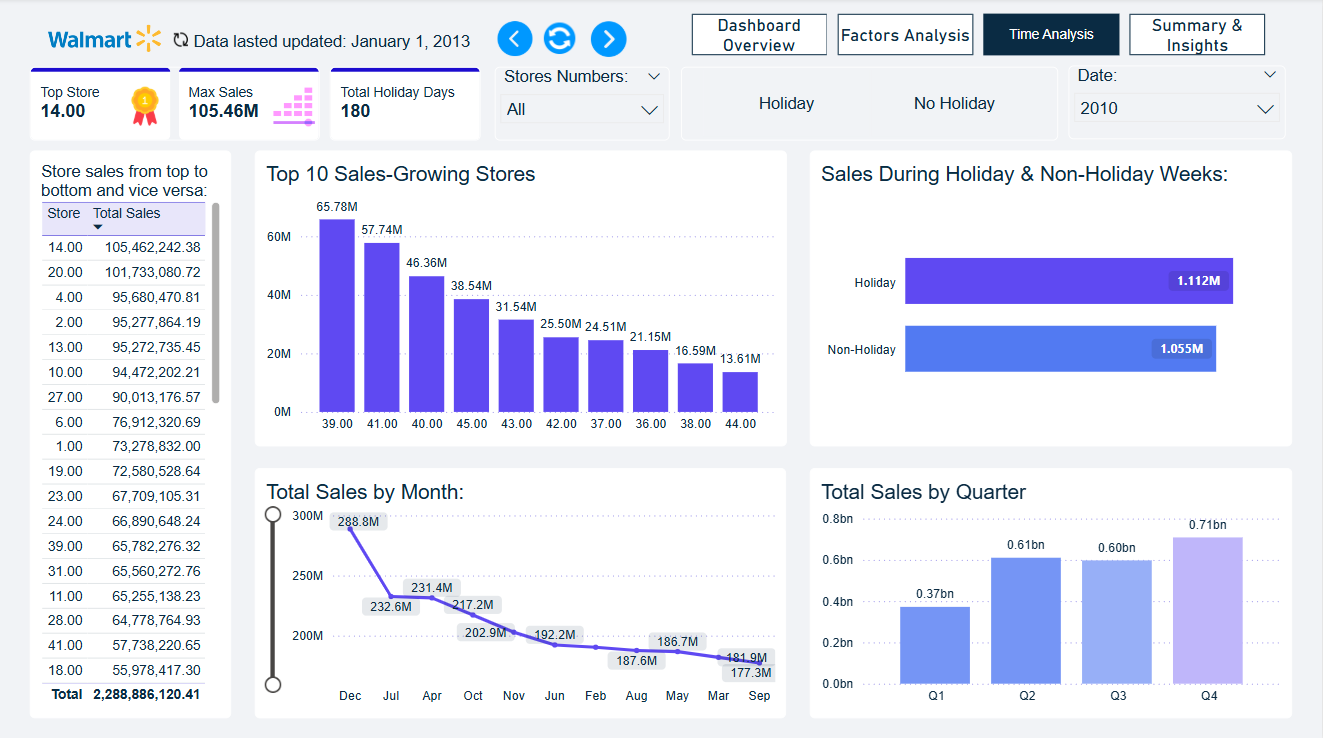

Layout of this report page (visuals, bound fields, positions):
{"tool":"powerbi","page":{"name":"Time Analysis","canvas":[1280,720],"ordinal":2},"visuals":[{"type":"tableEx","title":"Store sales from top to bottom and vice versa:","fields":{"Values":["Walmart_Sales.Store","Walmart_Sales.Total Sales"]},"box":[32.6,147.2,194.2,547.7],"z":0},{"type":"lineChart","title":"Total Sales by Month:","fields":{"Category":["Walmart_Sales.Month"],"Y":["Walmart_Sales.Total Sales"]},"box":[249.7,453.6,512.7,241.3],"z":1000},{"type":"clusteredColumnChart","title":"Total Sales by Quarter","fields":{"Category":["Walmart_Sales.Quarter"],"Y":["Walmart_Sales.Total Sales"]},"box":[785.4,453.6,465.7,241.3],"z":2000},{"type":"clusteredColumnChart","title":"Top 10 Sales-Growing Stores","fields":{"Category":["Walmart_Sales.Store"],"Y":["Walmart_Sales.Total Sales"]},"box":[249.7,146.8,513.2,285.4],"z":3000},{"type":"slicer","fields":{"Values":["Walmart_Sales.YearOnly","Walmart_Sales.Date.Variation.Date Hierarchy.Quarter","Walmart_Sales.Date.Variation.Date Hierarchy.Month"]},"box":[1034.8,65.6,209.5,71.3],"z":4000},{"type":"slicer","fields":{"Values":["Walmart_Sales.Holiday_Description"]},"box":[661.4,65.9,363.6,71.4],"z":5000},{"type":"slicer","fields":{"Values":["Walmart_Sales.Branch_Name"]},"box":[481.6,65.9,168.8,71.4],"z":6000},{"type":"cardVisual","fields":{"Data":["Walmart_Sales.Top Store","Walmart_Sales.Max Sales"]},"box":[32.9,65.9,279.9,71.4],"z":7000},{"type":"cardVisual","title":"Total Holiday Days:","fields":{"Data":["Walmart_Sales.Total Holiday Days"]},"box":[322.5,65.9,145.5,71.4],"z":8000},{"type":"textbox","box":[190.7,32.9,281.3,20.6],"z":9000},{"type":"image","box":[157.8,23.3,41.2,34.3],"z":10000},{"type":"image","box":[515.3,13.7,57.6,50.8],"z":11000},{"type":"image","box":[472,11,59,56.3],"z":12000},{"type":"image","box":[557.1,11.7,68.6,54.9],"z":13000},{"type":"image","box":[33.8,4.8,141.2,67.6],"z":14000},{"type":"pageNavigator","box":[661.1,4.8,574.3,60.3],"z":15000},{"type":"image","box":[114.6,73.6,57.9,61.5],"z":16000},{"type":"image","box":[255.8,74.8,63.9,60.3],"z":17000},{"type":"clusteredBarChart","title":"Sales During Holiday & Non-Holiday Weeks:","fields":{"Category":["HolidayType.Type"],"Y":["HolidayType.Avg_Sales_By_Type"]},"box":[785.4,147.2,465.7,285.9],"z":18000}]}

Visuals, with their boxes in screenshot pixels (x1, y1, x2, y2), scaled from the page's 1280x720 canvas onto the 1323x738 screenshot:
"Store sales from top to bottom and vice versa:" tableEx: left=34, top=151, right=234, bottom=712
"Total Sales by Month:" lineChart: left=258, top=465, right=788, bottom=712
"Total Sales by Quarter" clusteredColumnChart: left=812, top=465, right=1293, bottom=712
"Top 10 Sales-Growing Stores" clusteredColumnChart: left=258, top=150, right=789, bottom=443
slicer - Walmart_Sales.YearOnly x Walmart_Sales.Date.Variation.Date Hierarchy.Quarter: left=1070, top=67, right=1286, bottom=140
slicer - Walmart_Sales.Holiday_Description: left=684, top=68, right=1059, bottom=141
slicer - Walmart_Sales.Branch_Name: left=498, top=68, right=672, bottom=141
cardVisual - Walmart_Sales.Top Store x Walmart_Sales.Max Sales: left=34, top=68, right=323, bottom=141
"Total Holiday Days:" cardVisual: left=333, top=68, right=484, bottom=141
textbox: left=197, top=34, right=488, bottom=55
image: left=163, top=24, right=206, bottom=59
image: left=533, top=14, right=592, bottom=66
image: left=488, top=11, right=549, bottom=69
image: left=576, top=12, right=647, bottom=68
image: left=35, top=5, right=181, bottom=74
pageNavigator: left=683, top=5, right=1277, bottom=67
image: left=118, top=75, right=178, bottom=138
image: left=264, top=77, right=330, bottom=138
"Sales During Holiday & Non-Holiday Weeks:" clusteredBarChart: left=812, top=151, right=1293, bottom=444
